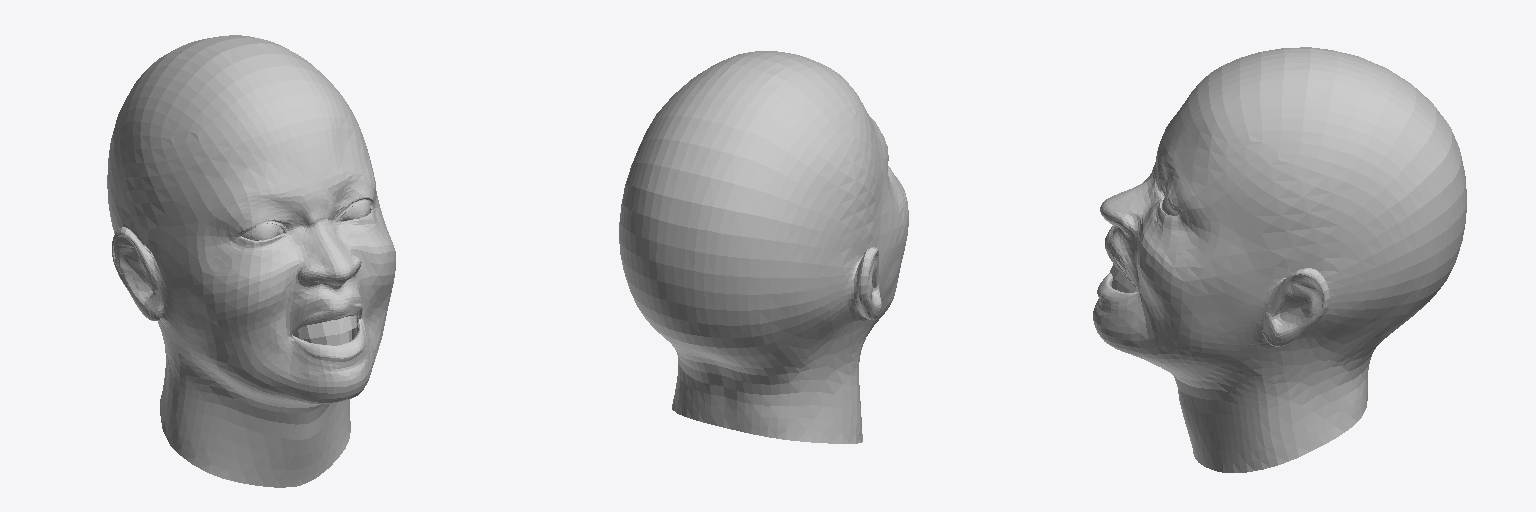
Rendered from Jane_hi_all_ExpressionAnger.obj.
3 renders of one model, left to right at view 1: azimuth 30°, elevation 25°; view 2: azimuth 150°, elevation 25°; view 3: azimuth 270°, elevation 25°, orthographic.
Parts seen in each view (by area): view 1: FaceGen; view 2: FaceGen; view 3: FaceGen.
Part boxes in pixels (x1,y1,x2,y2): FaceGen: (107, 35, 395, 487); FaceGen: (619, 51, 908, 443); FaceGen: (1093, 47, 1466, 472).
Bounding box in the file's own units: 181 × 281 × 240.